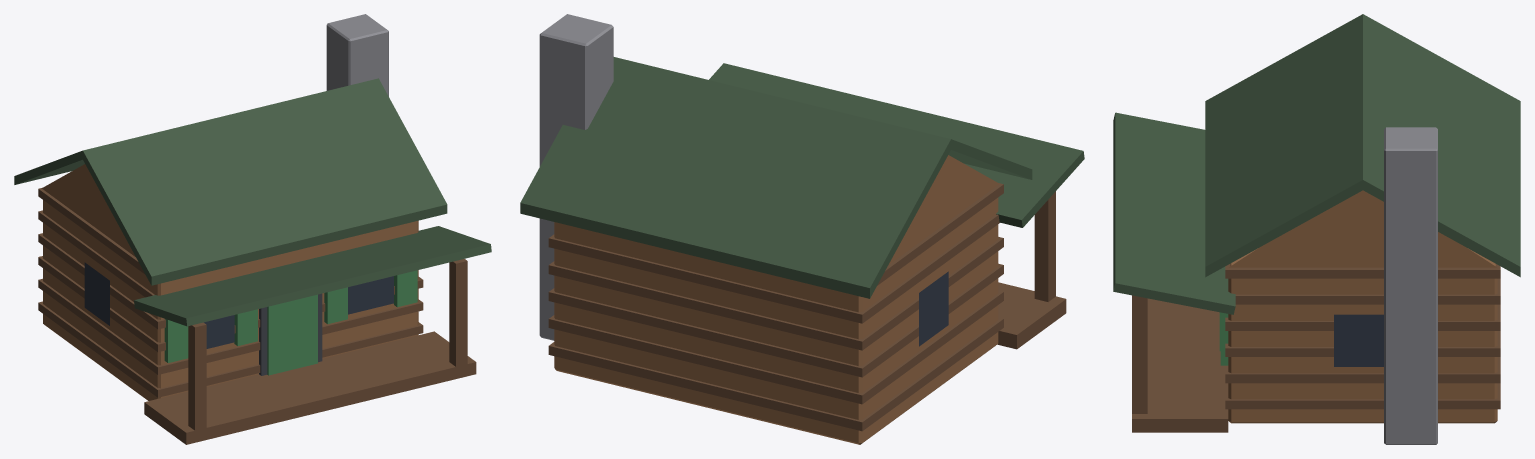
File: Cabin.fbx
The picture shows the model from 3 angles, left to right: view 1: azimuth 30°, elevation 25°; view 2: azimuth 150°, elevation 25°; view 3: azimuth 270°, elevation 25°; orthographic projection. The views are drawn at different scales.
Parts seen in each view (by area): view 1: Cabin_Roof, Cabin_Logs, Cabin_Body, Cabin_Shutters, Cabin_Stone, Cabin_Windows, Cabin_Frame; view 2: Cabin_Roof, Cabin_Body, Cabin_Logs, Cabin_Stone, Cabin_Windows; view 3: Cabin_Roof, Cabin_Body, Cabin_Logs, Cabin_Stone, Cabin_Windows, Cabin_Shutters.
Part boxes in pixels (x1,y1,x2,y2): Cabin_Roof: [14, 78, 491, 326]; Cabin_Logs: [38, 187, 476, 444]; Cabin_Body: [42, 164, 418, 400]; Cabin_Shutters: [164, 270, 417, 375]; Cabin_Stone: [326, 14, 388, 96]; Cabin_Windows: [84, 262, 393, 348]; Cabin_Frame: [259, 293, 322, 375]; Cabin_Roof: [520, 57, 1084, 298]; Cabin_Body: [554, 155, 999, 444]; Cabin_Logs: [548, 183, 1066, 431]; Cabin_Stone: [539, 14, 613, 340]; Cabin_Windows: [919, 271, 948, 346]; Cabin_Roof: [1113, 14, 1520, 314]; Cabin_Body: [1228, 190, 1497, 423]; Cabin_Logs: [1132, 264, 1500, 432]; Cabin_Stone: [1384, 127, 1437, 444]; Cabin_Windows: [1334, 314, 1383, 366]; Cabin_Shutters: [1219, 312, 1228, 365].
Bounding box in the file's own units: 22.1 × 17.1 × 21.18.
